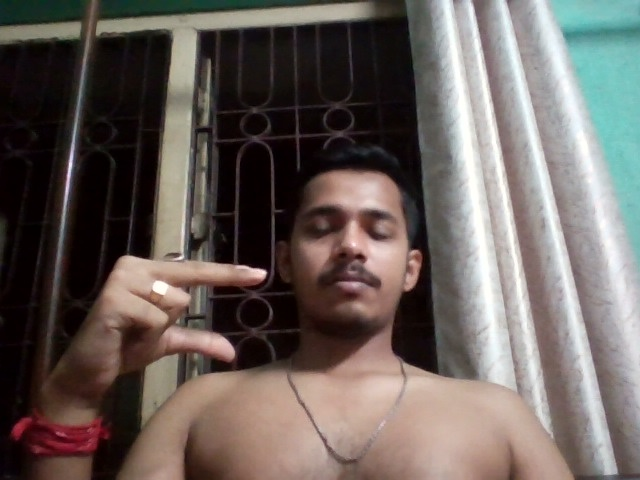No: (93, 206, 270, 417)
